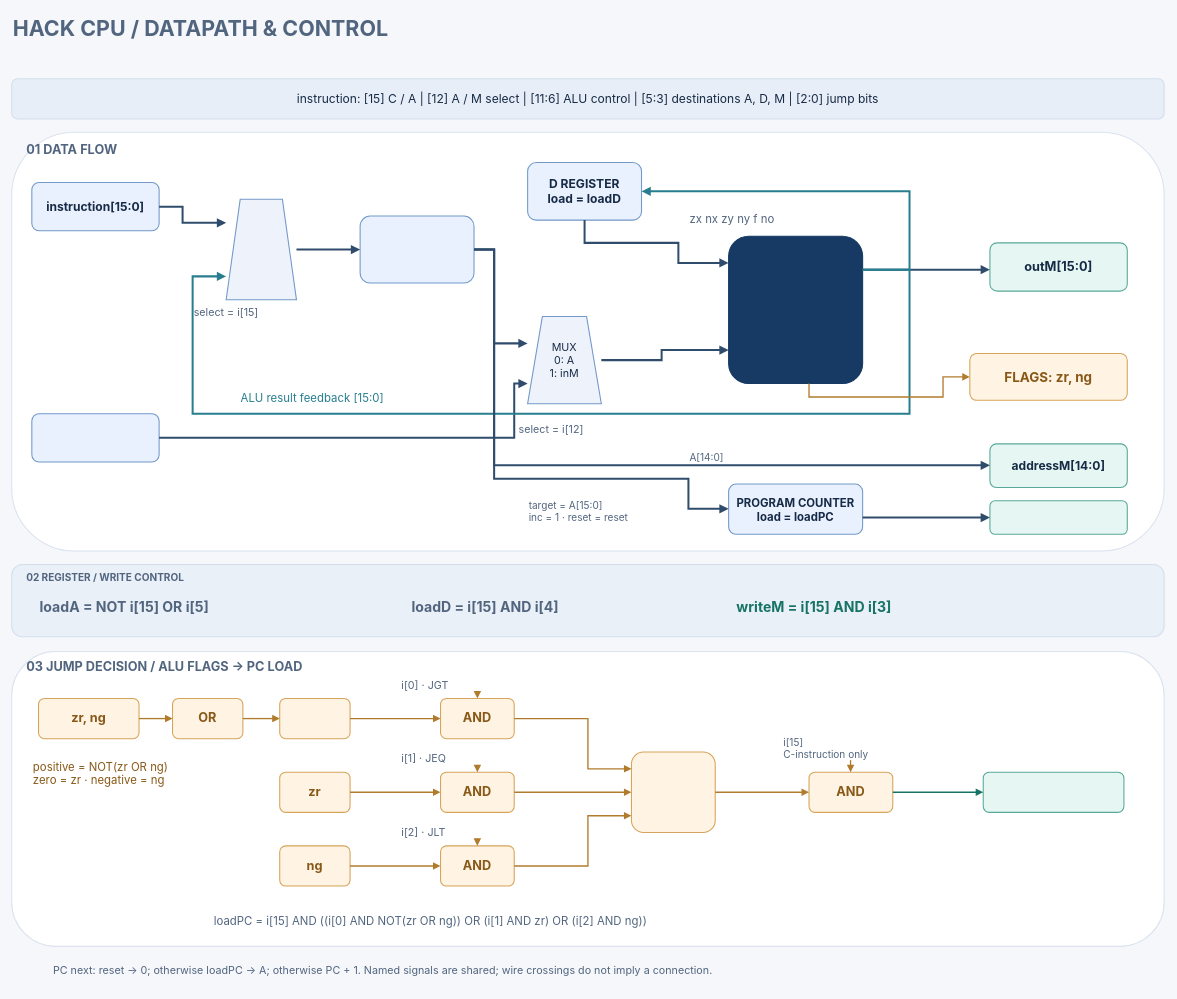
The diagram is 1177 pixels wide and 999 high, and some of its shapes have lost their labels. Each missing label, with the centre of its shape:
"A REGISTER load = loadA" goes at point 416,249.
"ALU x = D y = A or M control = i[11:6]" goes at point 795,309.
"inM[15:0]" goes at point 95,437.
"loadPC → PC" goes at point 1053,792.
"MUX 0: instr 1: ALU" goes at point 261,249.
"NOT" goes at point 314,718.
"OR 3 inputs" goes at point 673,792.
"pc[14:0]" goes at point 1058,517.
